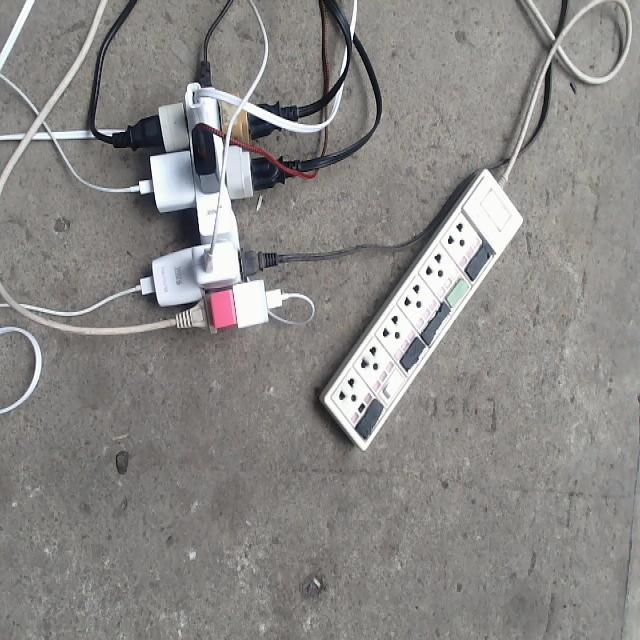-: (108, 55, 297, 332)
